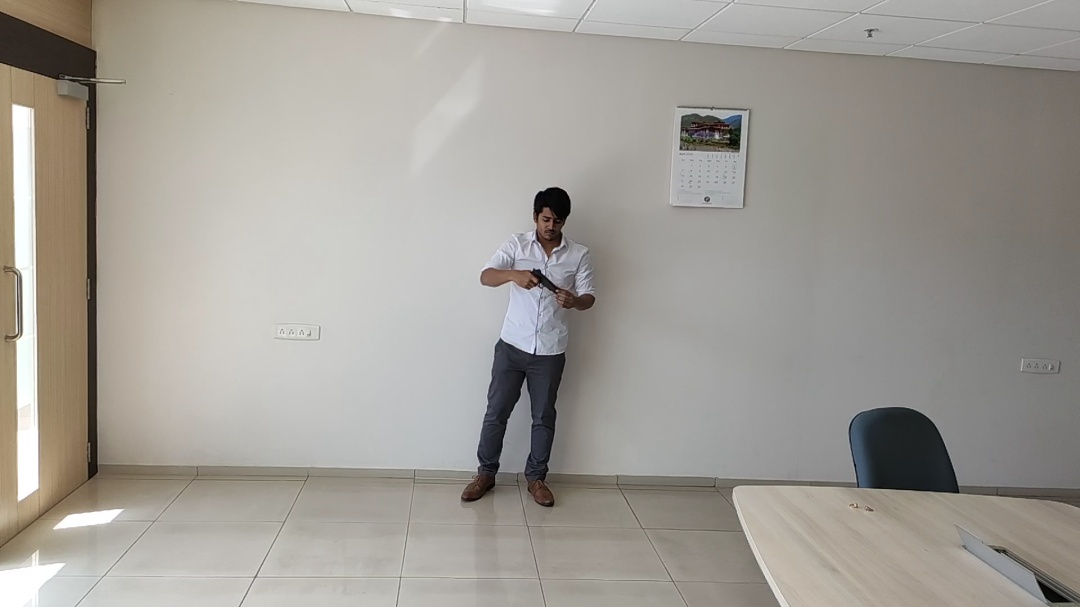gun: (322, 90, 694, 548)
